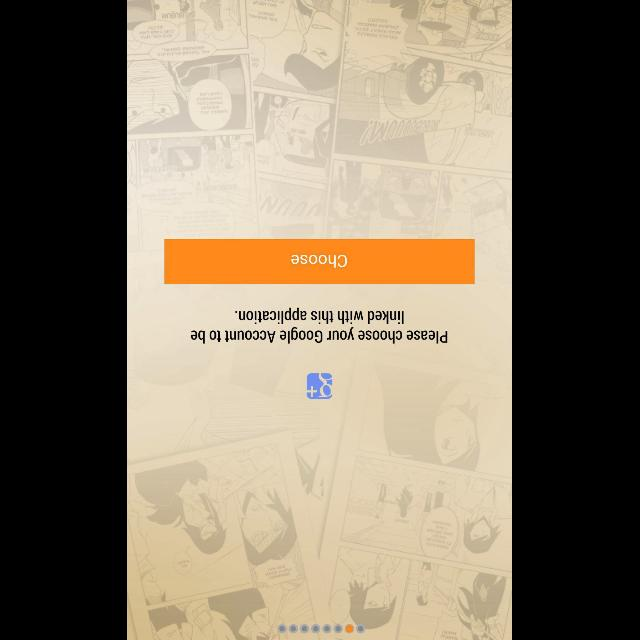backgroundimage: (128, 1, 512, 640)
icon: (307, 372, 333, 398)
pageindicator: (278, 622, 367, 634)
text: (192, 308, 448, 344)
textbutton: (165, 238, 475, 284)
